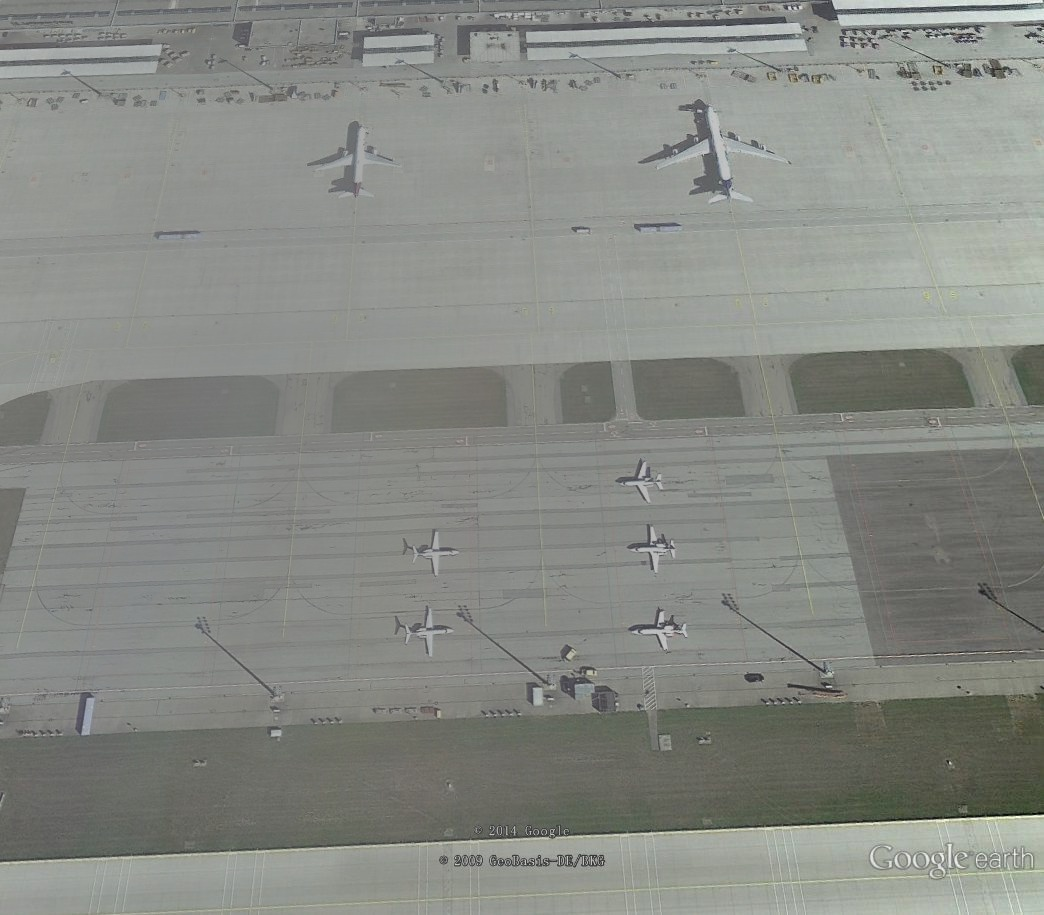aircraft: (652, 99, 796, 208), (306, 118, 403, 205), (402, 526, 463, 585), (399, 601, 456, 661), (628, 607, 694, 655), (627, 520, 681, 577), (618, 459, 667, 507)
